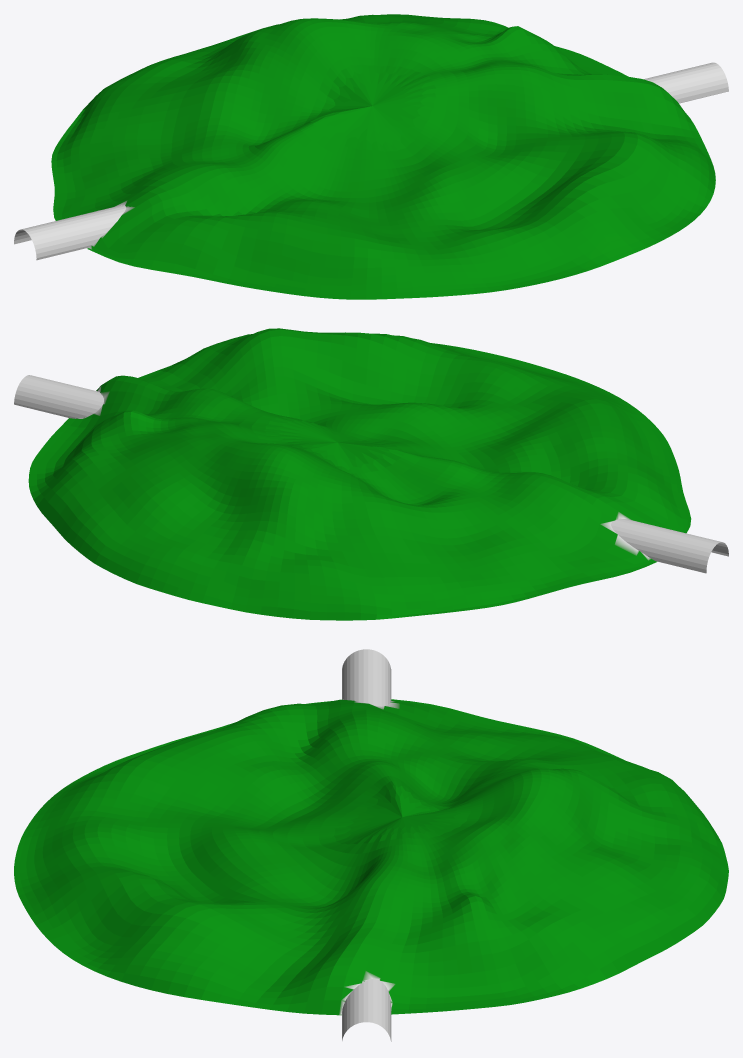
The model's file is ponte_ecologica.fbx.
3 renders of one model, top to bottom at view 1: azimuth 30°, elevation 25°; view 2: azimuth 150°, elevation 25°; view 3: azimuth 270°, elevation 25°, orthographic. The views are drawn at different scales.
Parts seen in each view (by area): view 1: Sphere; view 2: Sphere; view 3: Sphere.
Part boxes in pixels (x1,y1,x2,y2): Sphere: [14, 14, 728, 299]; Sphere: [14, 328, 728, 620]; Sphere: [14, 649, 728, 1041].
Size of the model in its own units: 3543 by 438 by 2886.
